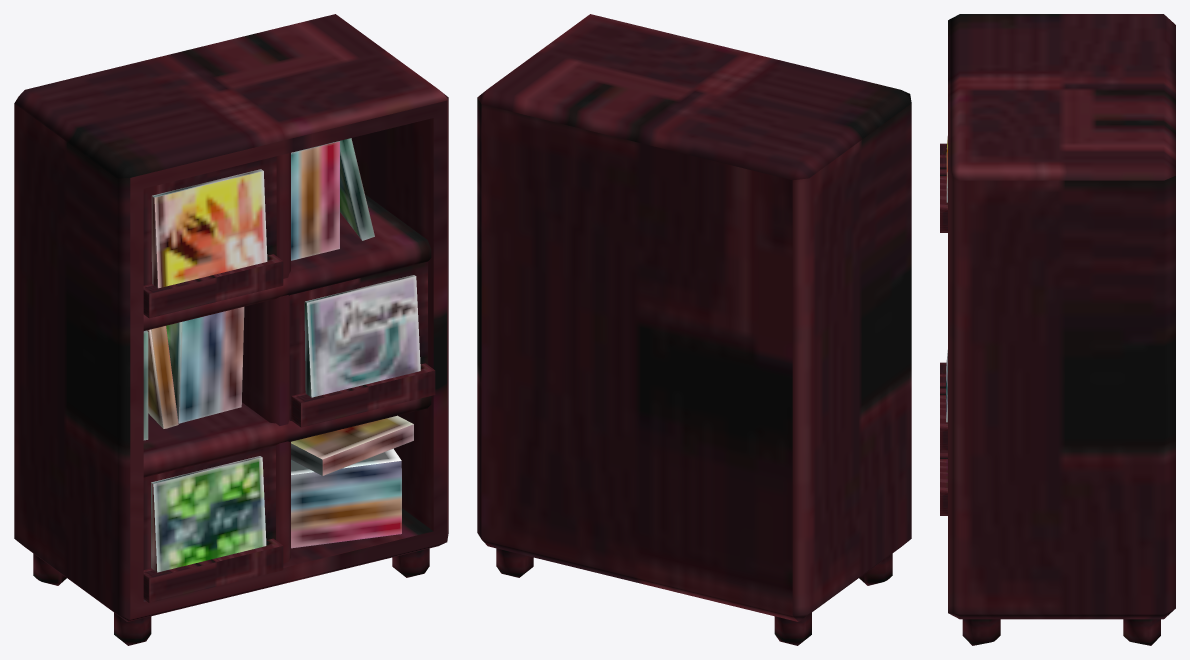
Rendered from int_oth_cdrack.dae.
3 renders of one model, left to right at view 1: azimuth 30°, elevation 25°; view 2: azimuth 150°, elevation 25°; view 3: azimuth 270°, elevation 25°, orthographic.
Parts seen in each view (by area): view 1: int_oth_cdrack; view 2: int_oth_cdrack; view 3: int_oth_cdrack.
Boxes of the visible parts, bbox=[...] form: int_oth_cdrack: bbox=[14, 14, 448, 645]; int_oth_cdrack: bbox=[477, 14, 911, 645]; int_oth_cdrack: bbox=[940, 14, 1175, 645].
Size of the model in its own units: 25.36 by 35.59 by 15.69.
2 materials, 2 textured.
